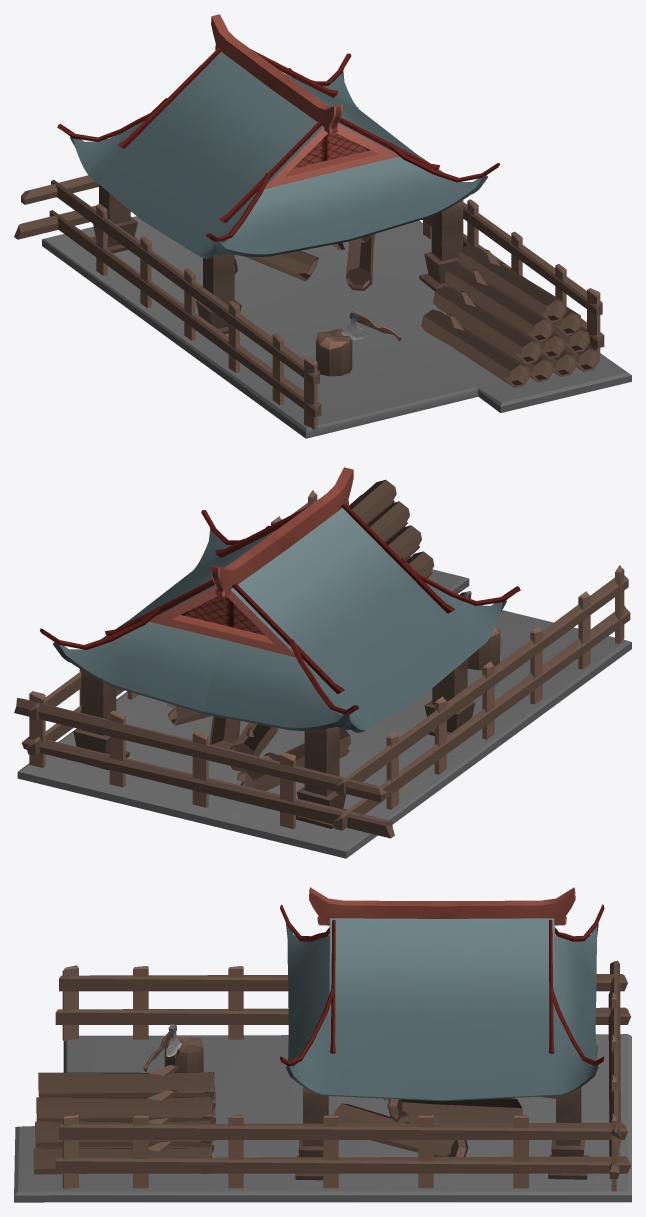
Rendered from sawmill_1lvl.fbx.
3 renders of one model, top to bottom at view 1: azimuth 30°, elevation 25°; view 2: azimuth 150°, elevation 25°; view 3: azimuth 270°, elevation 25°, orthographic. The views are drawn at different scales.
Visible parts, largest first — view 1: sawmill_1lvl; view 2: sawmill_1lvl; view 3: sawmill_1lvl.
Boxes of the visible parts, x1,y1,x2,y2 form: sawmill_1lvl: (14, 14, 631, 438); sawmill_1lvl: (14, 467, 631, 858); sawmill_1lvl: (14, 887, 631, 1202).
Size of the model in its own units: 4.54 by 2.69 by 6.52.
